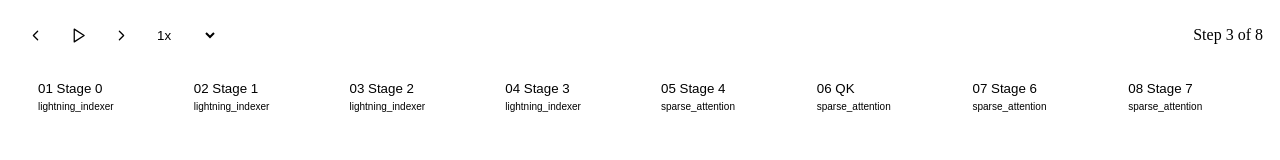
Test: supports previous next and direct stage selection
The width and height of the screenshot is (1280, 160).
What coordinates should you click on to do the following:
click the button named "Previous stage"
I would click on:
 (35, 35)
Its box is 17,17 -> 53,53.
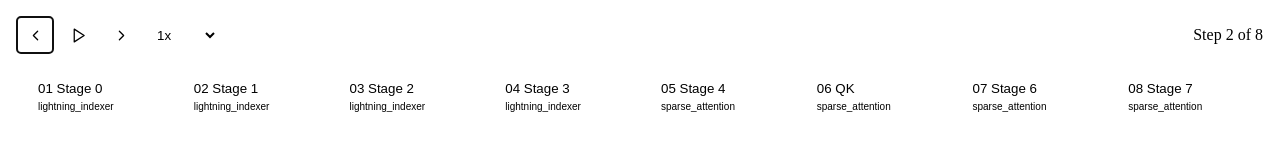
Check: the text "Step 2 of 8" is shown, box 1193,26 -> 1263,44
What coordinates should you click on to do the following:
click the button "06 QK sparse_attention"
I would click on:
 (874, 95)
Its box is 796,65 -> 952,125.
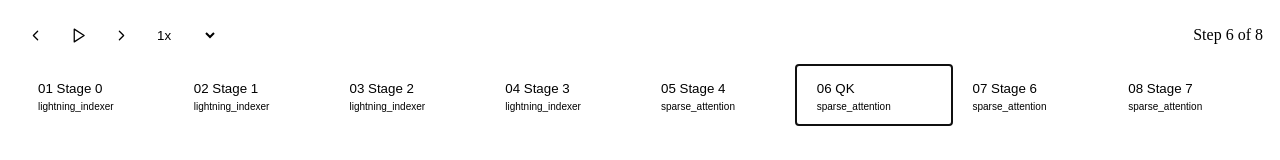
Check: the text "Step 6 of 8" is shown, box 1193,26 -> 1263,44
What coordinates should you click on to do the following:
click the button named "Next stage"
I would click on:
 (121, 35)
Its box is 103,17 -> 139,53.
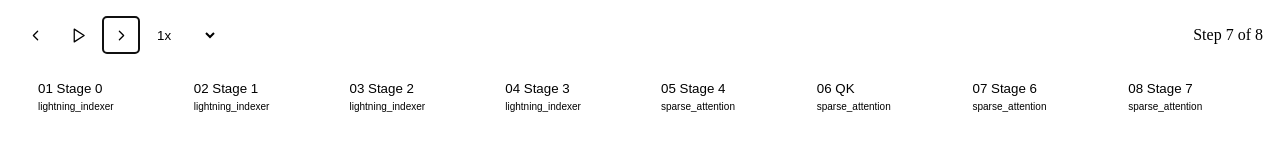
Check: the text "Step 7 of 8" is shown, box 1193,26 -> 1263,44
